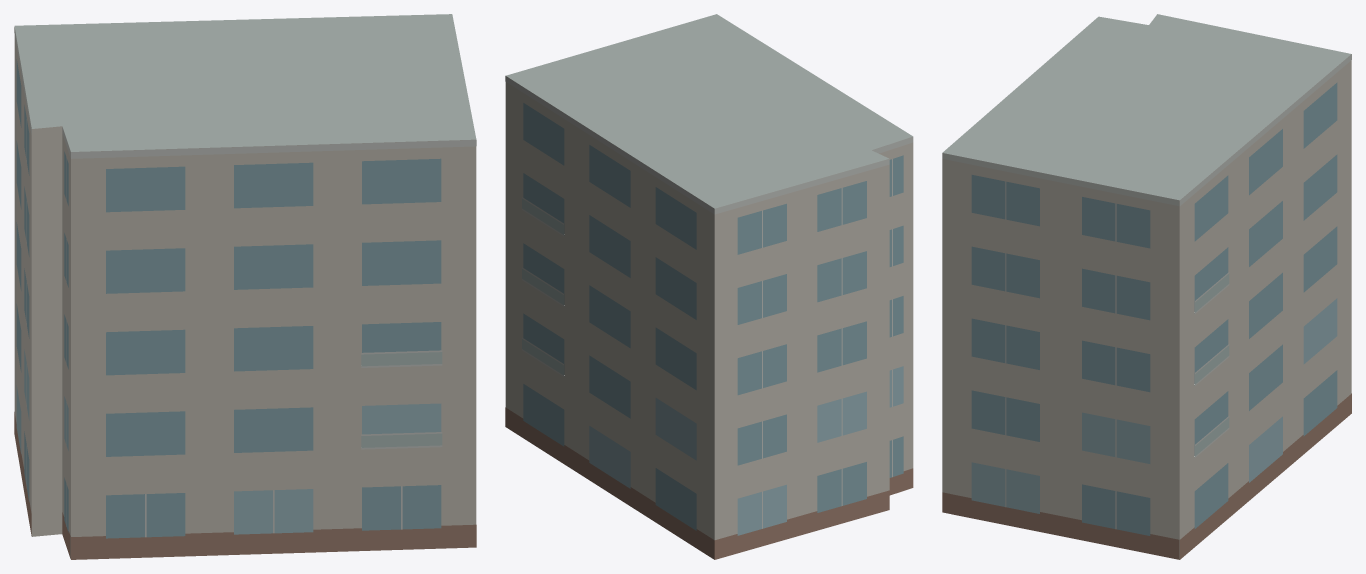
The model's file is survey-upis-32532770.glb.
The picture shows the model from 3 angles, left to right: view 1: azimuth 30°, elevation 25°; view 2: azimuth 150°, elevation 25°; view 3: azimuth 270°, elevation 25°; orthographic projection. The views are drawn at different scales.
Visible parts, largest first — view 1: survey-upis-32532770.tmp; view 2: survey-upis-32532770.tmp; view 3: survey-upis-32532770.tmp.
Part boxes in pixels (bbox=[...]): survey-upis-32532770.tmp: bbox=[14, 14, 476, 559]; survey-upis-32532770.tmp: bbox=[505, 14, 913, 559]; survey-upis-32532770.tmp: bbox=[942, 14, 1351, 559].
Bounding box in the file's own units: 16.24 × 14.6 × 15.08.
